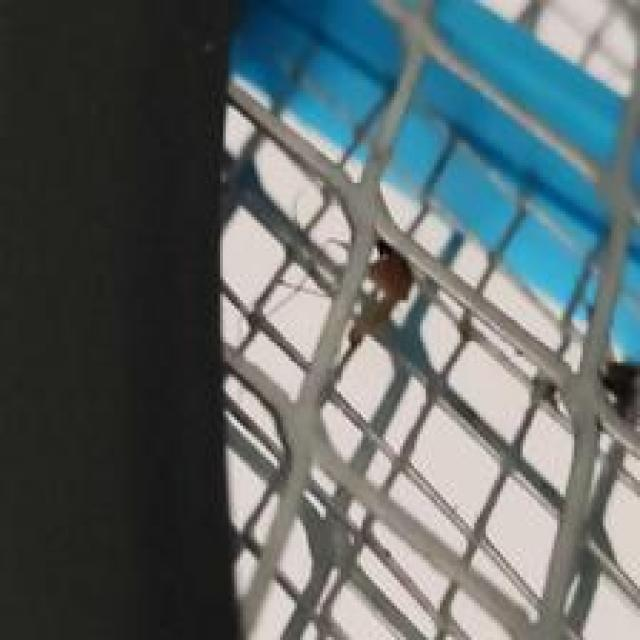Culex: (346, 239, 414, 347)
